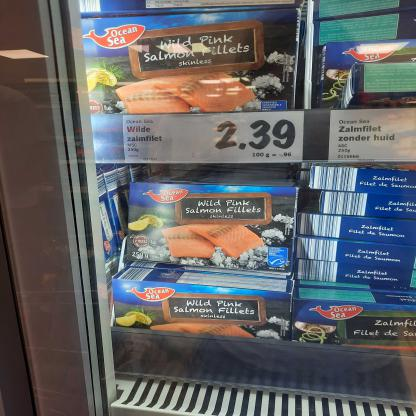prtg: (124, 112, 306, 165), (329, 109, 416, 163)
